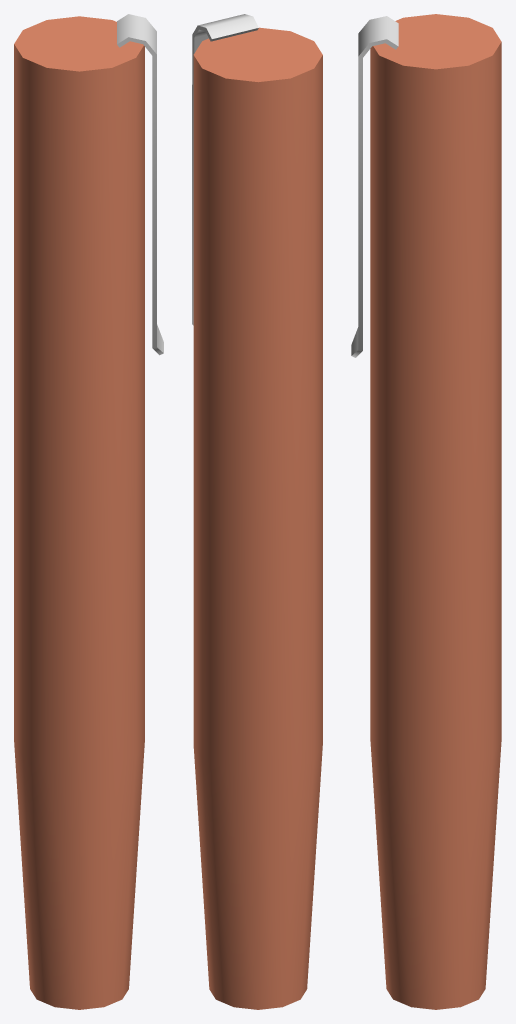
File: MarkerBody.fbx
3 views of the same model, side by side, from view 1: azimuth 90°, elevation 25°; view 2: azimuth 210°, elevation 25°; view 3: azimuth 270°, elevation 25° (orthographic).
Parts seen in each view (by area): view 1: WhiteboardMarker_body; view 2: WhiteboardMarker_body; view 3: WhiteboardMarker_body.
Boxes of the visible parts, x1=… form: WhiteboardMarker_body: x1=14, y1=14, x2=163, y2=1009; WhiteboardMarker_body: x1=192, y1=14, x2=322, y2=1009; WhiteboardMarker_body: x1=351, y1=14, x2=501, y2=1009.
Size of the model in its own units: 41.15 by 334 by 47.12.
